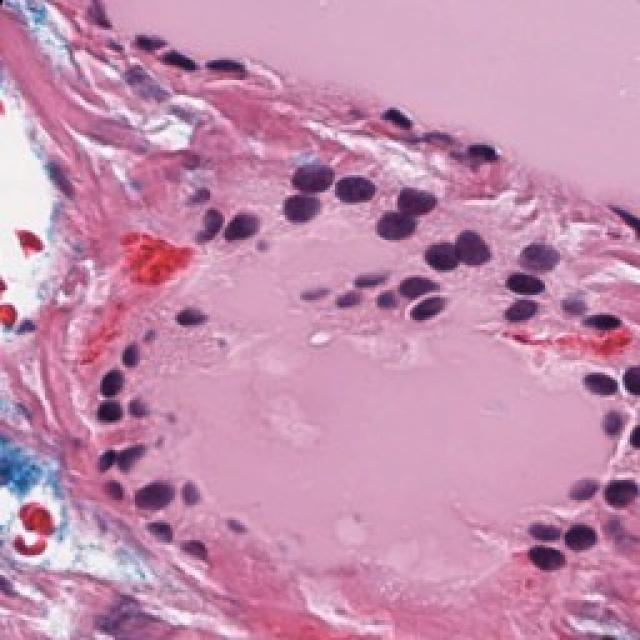normal: (282, 144, 345, 208), (510, 235, 580, 288), (563, 297, 632, 347), (442, 222, 503, 278), (327, 160, 385, 218), (516, 532, 576, 588), (577, 355, 633, 412), (407, 235, 470, 285), (82, 385, 137, 442), (358, 200, 415, 248), (555, 518, 610, 567), (389, 170, 439, 223), (88, 363, 148, 402), (596, 471, 640, 518), (492, 268, 548, 302), (500, 295, 547, 335)
